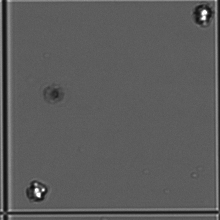Dead Cell: (43, 84, 64, 104)
Living Cell: (193, 2, 214, 27), (26, 180, 48, 201)
